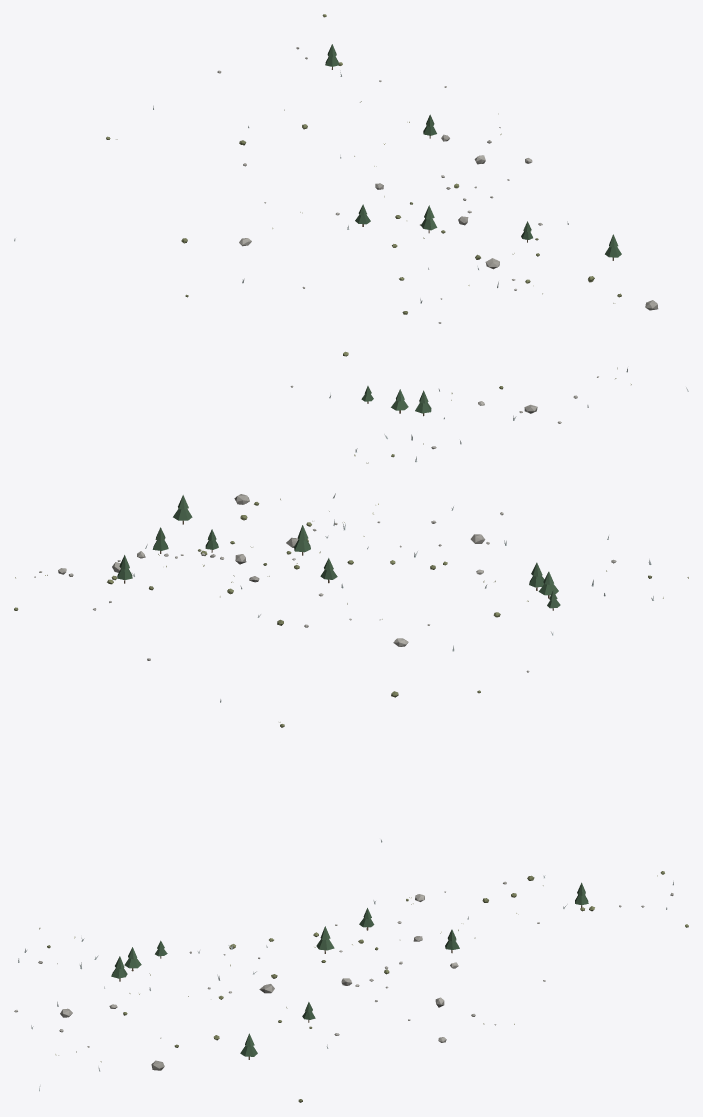
The model's file is coast_land_scatter_c09_22_lod1.glb.
3 renders of one model, top to bottom at view 1: azimuth 30°, elevation 25°; view 2: azimuth 150°, elevation 25°; view 3: azimuth 270°, elevation 25°, orthographic. The views are drawn at different scales.
Visible parts, largest first — view 1: coast_land_scatter_c09_22_lod1; view 2: coast_land_scatter_c09_22_lod1; view 3: coast_land_scatter_c09_22_lod1.
Boxes of the visible parts, x1,y1,x2,y2 form: coast_land_scatter_c09_22_lod1: (14, 14, 688, 463); coast_land_scatter_c09_22_lod1: (14, 493, 688, 842); coast_land_scatter_c09_22_lod1: (14, 871, 688, 1102).
Bounding box in the file's own units: 176 × 72.29 × 253.
